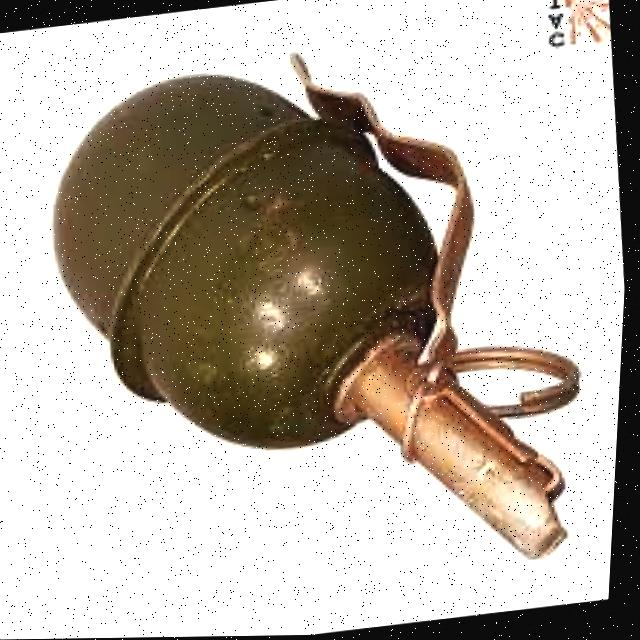grenade: (11, 2, 629, 626)
